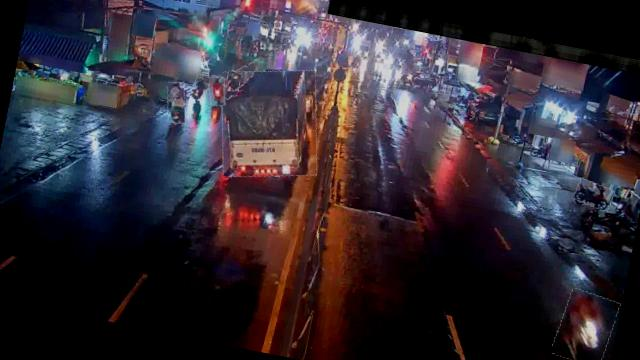Bike: (552, 287, 620, 360), (574, 178, 616, 211), (162, 80, 190, 124), (206, 74, 228, 106), (189, 73, 210, 102), (224, 71, 242, 96)
Truck: (208, 58, 330, 188)
